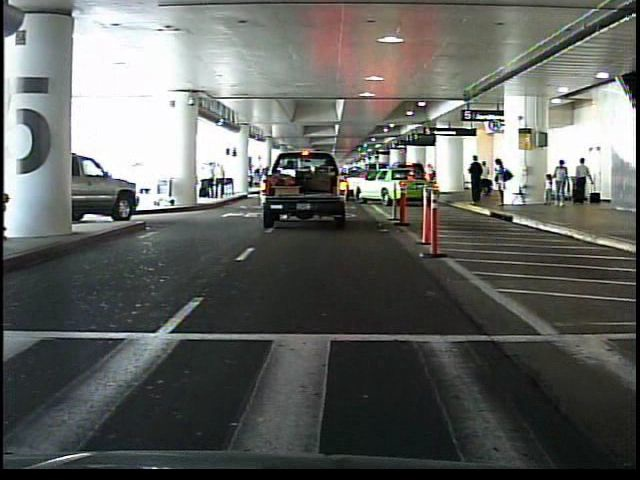person: (493, 157, 514, 210), (468, 154, 487, 206), (481, 158, 494, 200)
